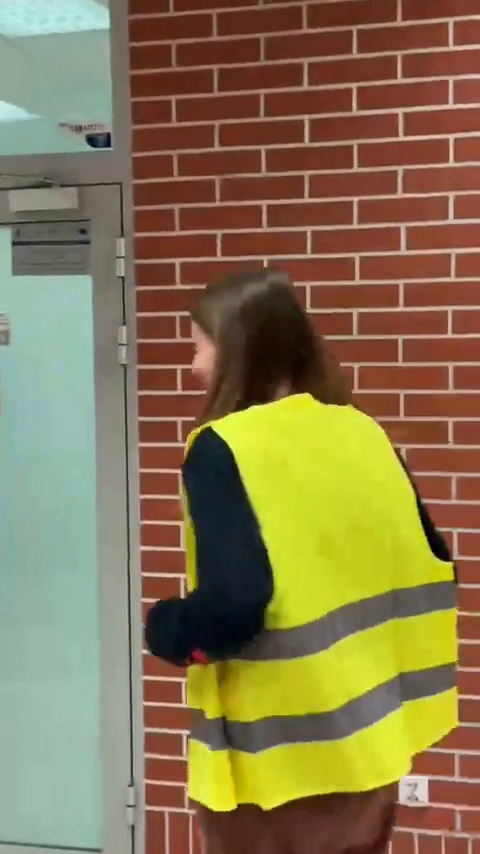vest: (150, 273, 462, 844)
